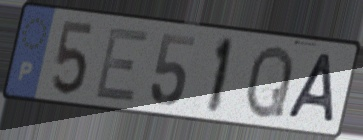1: (203, 35, 235, 116)
5: (148, 30, 199, 109), (48, 17, 97, 97)
A: (284, 51, 336, 126)
E: (92, 25, 152, 105)
Q: (243, 42, 296, 121)
